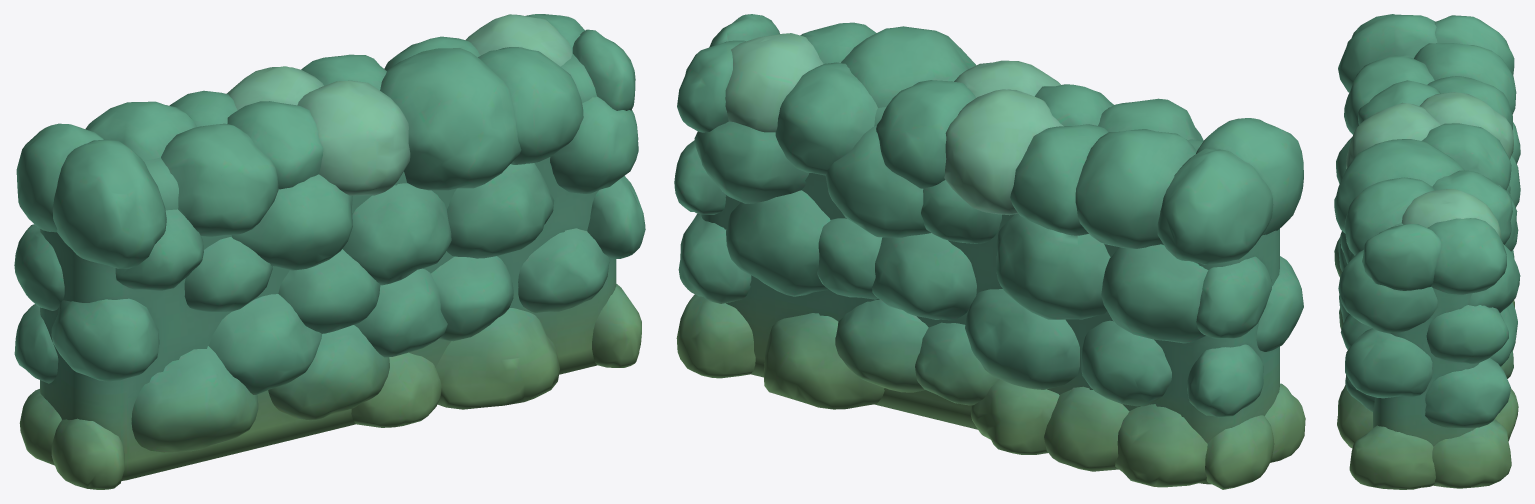
Rendered from hedge.glb.
The picture shows the model from 3 angles, left to right: view 1: azimuth 30°, elevation 25°; view 2: azimuth 150°, elevation 25°; view 3: azimuth 270°, elevation 25°; orthographic projection. The views are drawn at different scales.
Visible parts, largest first — view 1: hedge_body; view 2: hedge_body; view 3: hedge_body.
Part boxes in pixels (x1,y1,x2,y2): hedge_body: [14, 14, 645, 489]; hedge_body: [674, 14, 1305, 489]; hedge_body: [1334, 14, 1520, 489].
Bounding box in the file's own units: 1.97 × 1.08 × 0.6734.
1 material, 1 textured.
